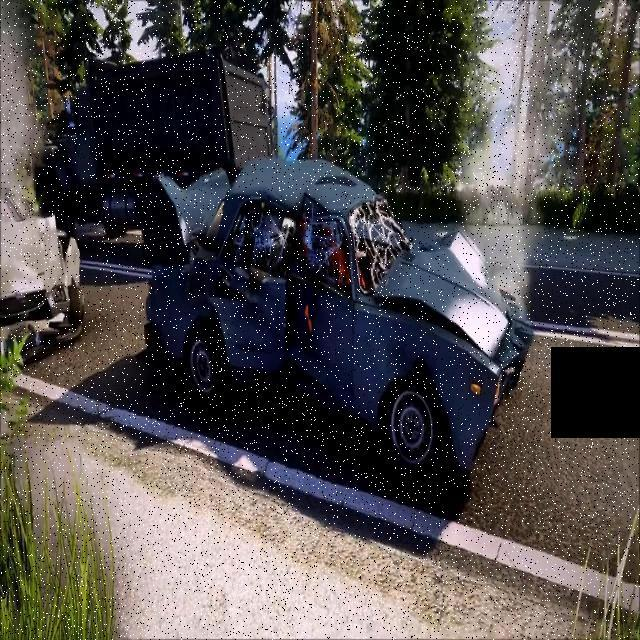severe: (142, 154, 536, 493), (0, 162, 91, 364)
